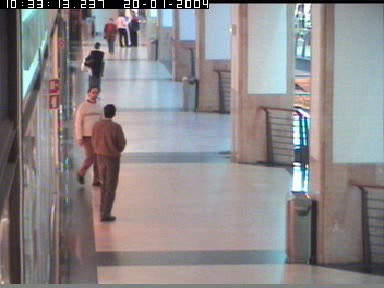person: (91, 104, 127, 222), (73, 86, 107, 186), (81, 42, 105, 100), (103, 17, 116, 54), (116, 11, 128, 47), (128, 11, 140, 47)
